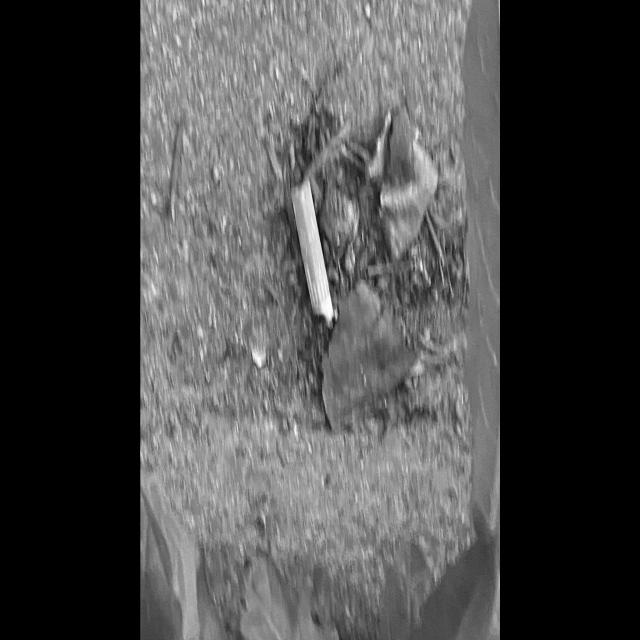other waste: (290, 176, 334, 332)
